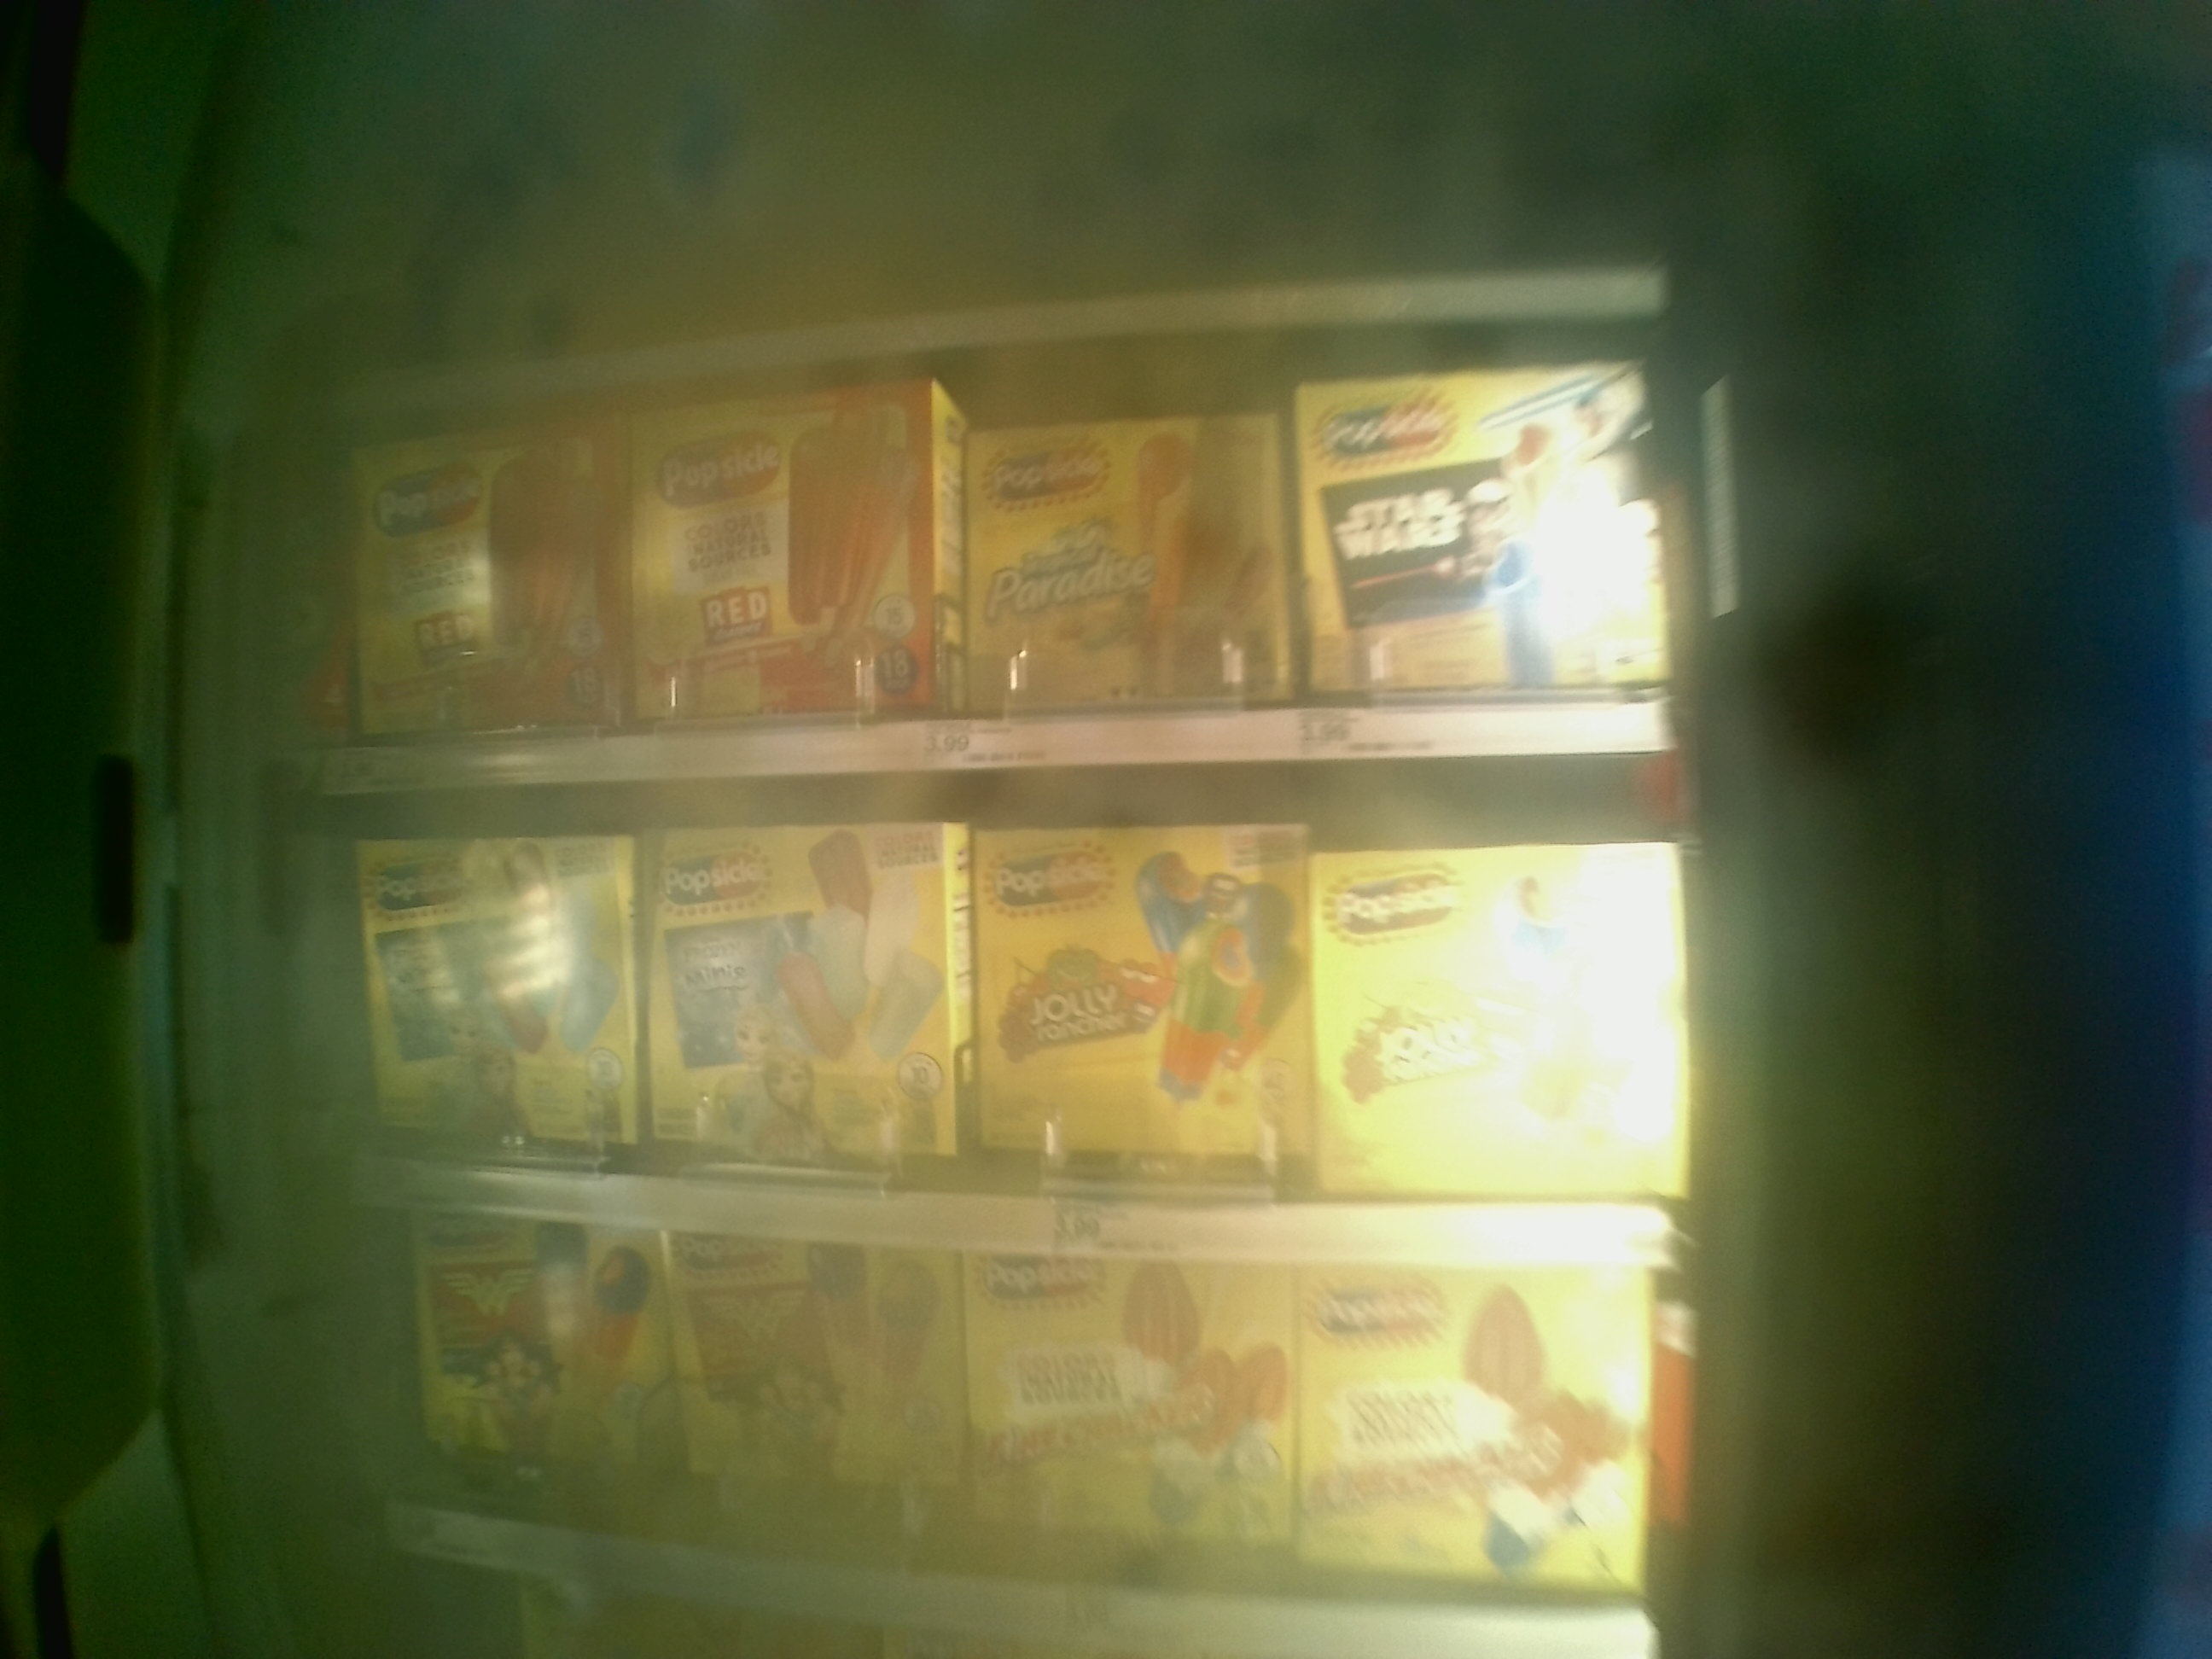shelf: (347, 755, 1691, 1202)
